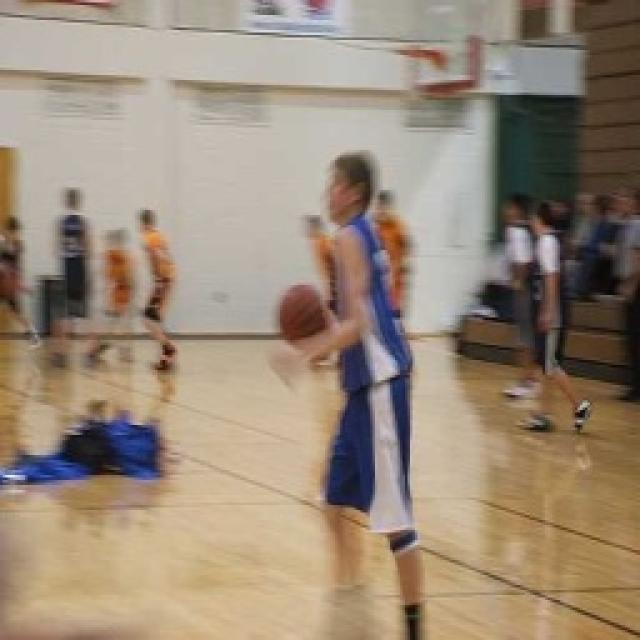rim: (276, 275, 340, 351)
